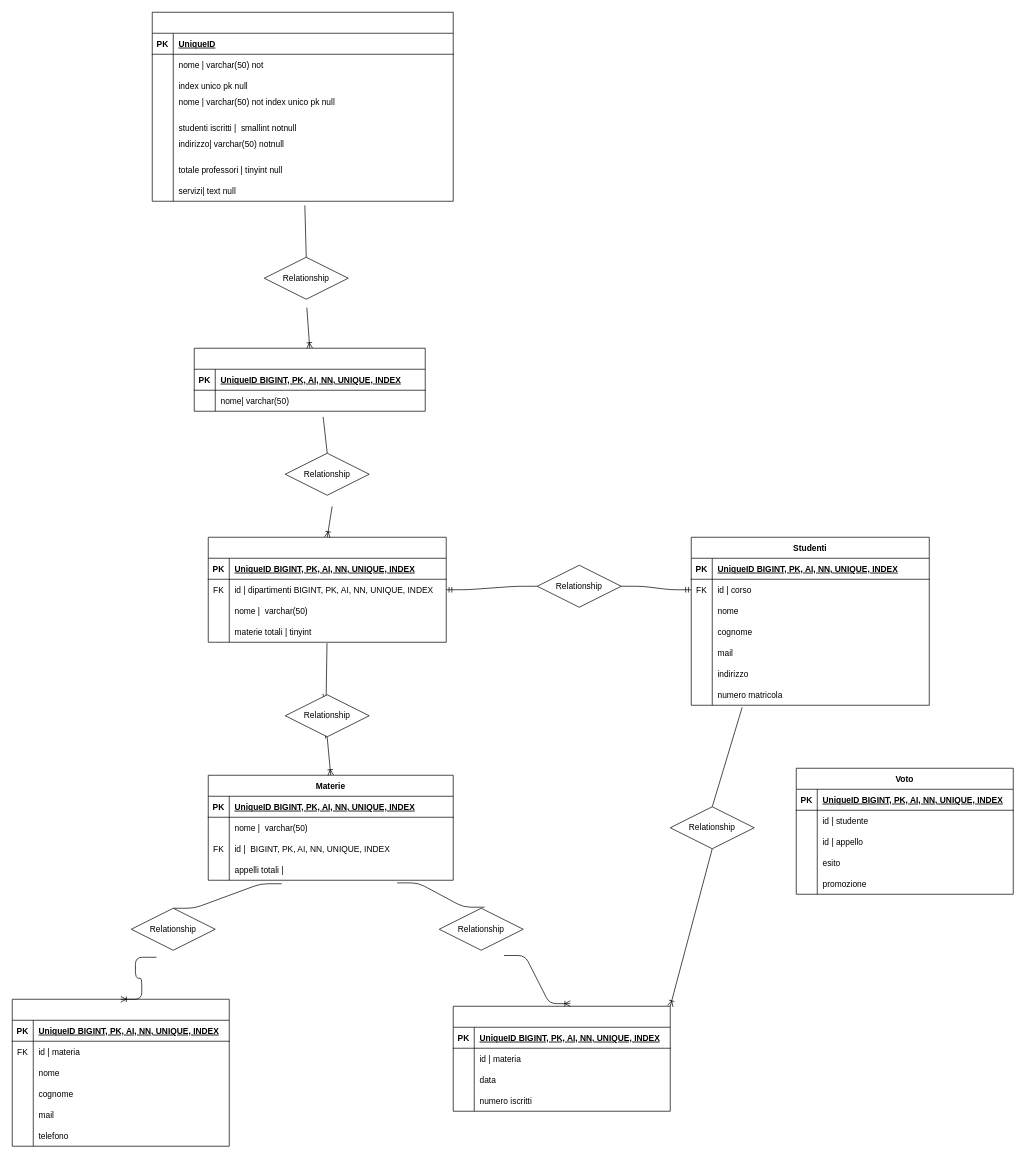
Image size: 1026x1159. Some labels were removed from this diagram. The box of each missing label's shape, as (x1, y1, x2, y2) in pixels:
Appelli: (453, 1006, 670, 1111)
Corsi di laurea: (208, 537, 446, 642)
dipartimenti: (194, 348, 425, 411)
Insegnanti: (12, 999, 229, 1146)
universita: (152, 12, 453, 201)
